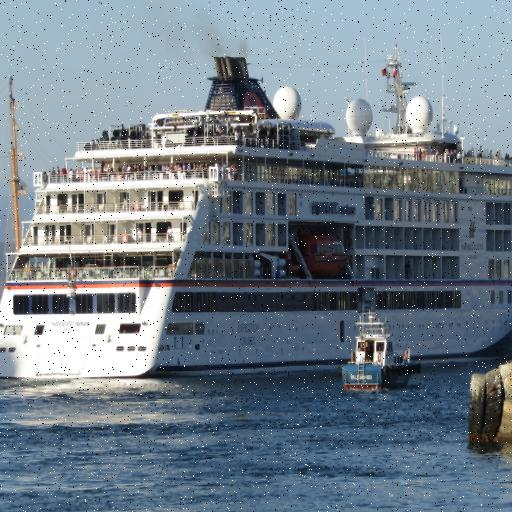cruises: (1, 49, 512, 379)
